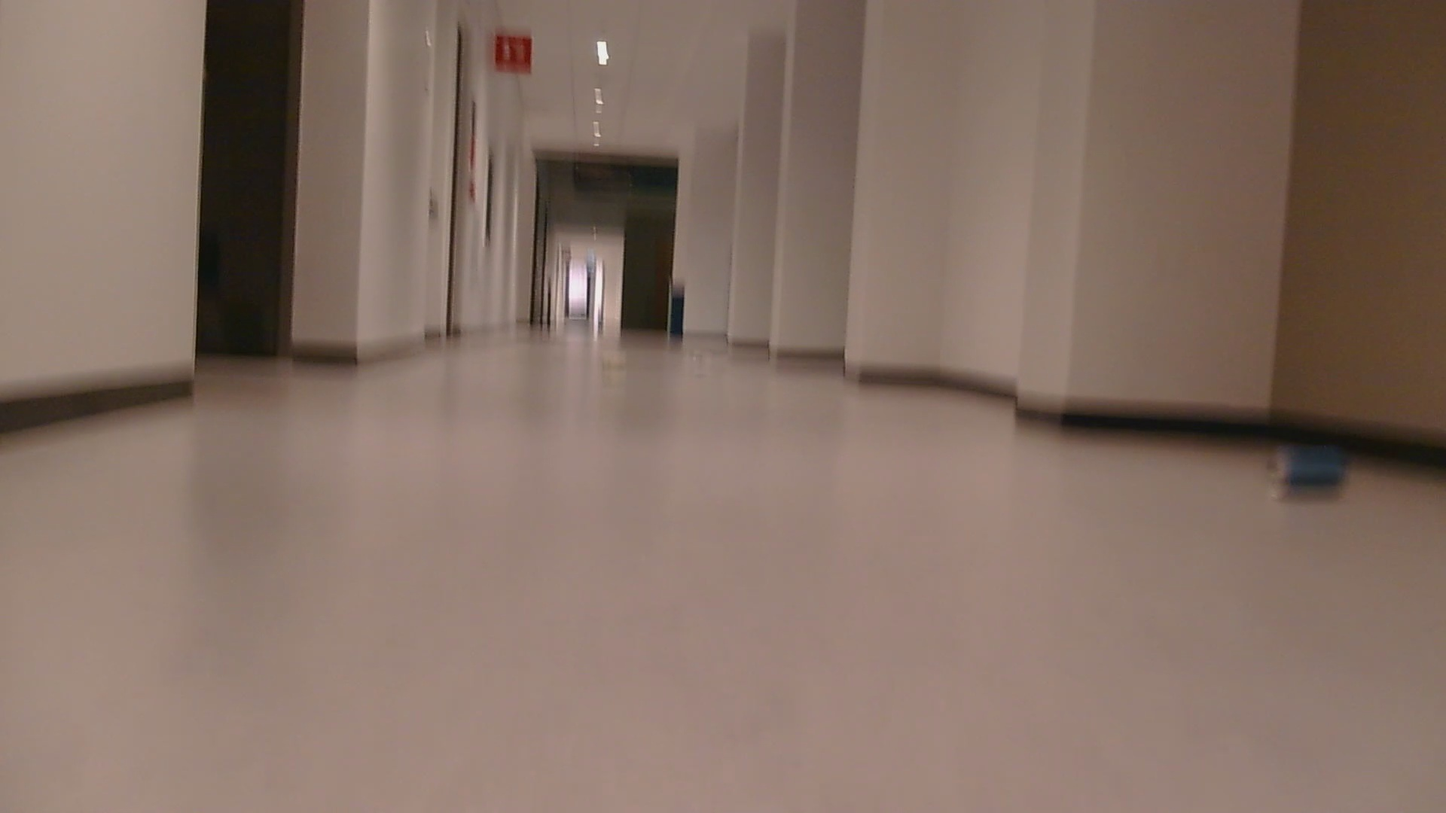carton: (1267, 431, 1378, 501)
